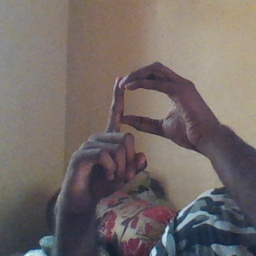P: (79, 61, 213, 193)
